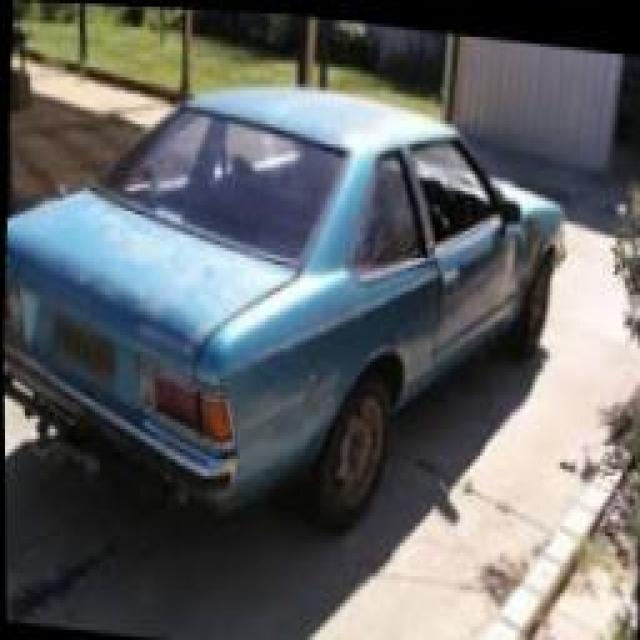Fender: (501, 201, 565, 329)
